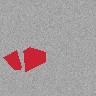climbing-hold: (24, 47, 46, 72), (4, 50, 21, 70)
